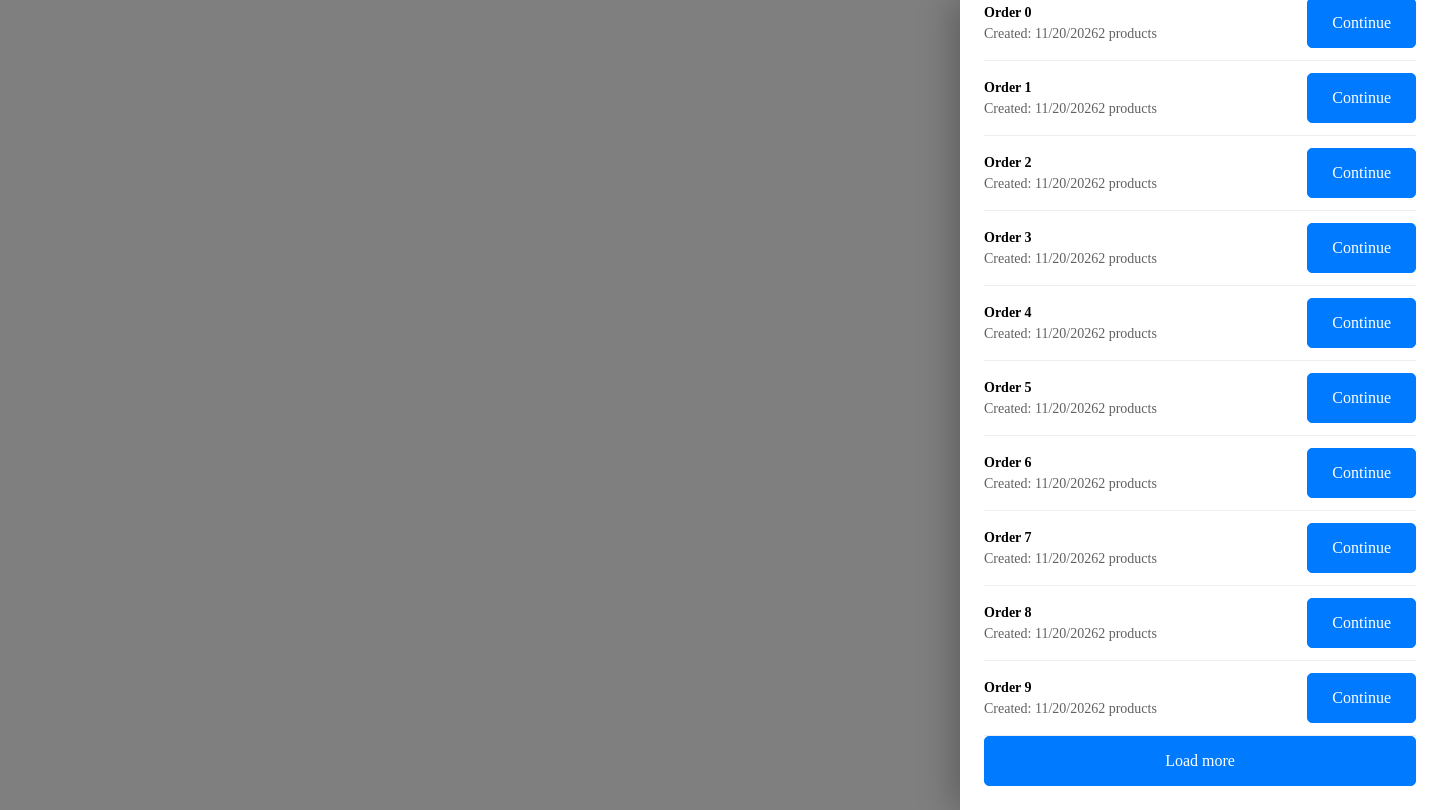
Test: AccountDialog's drafts › loads the next page from where the last ended
This screenshot has width=1440, height=810.
(page scrolled)
Expected: the text "Order 0" is shown, [984,5,1032,20]
Step 1. Click the button "Load more" → (1200,761), box [984,736,1416,786]
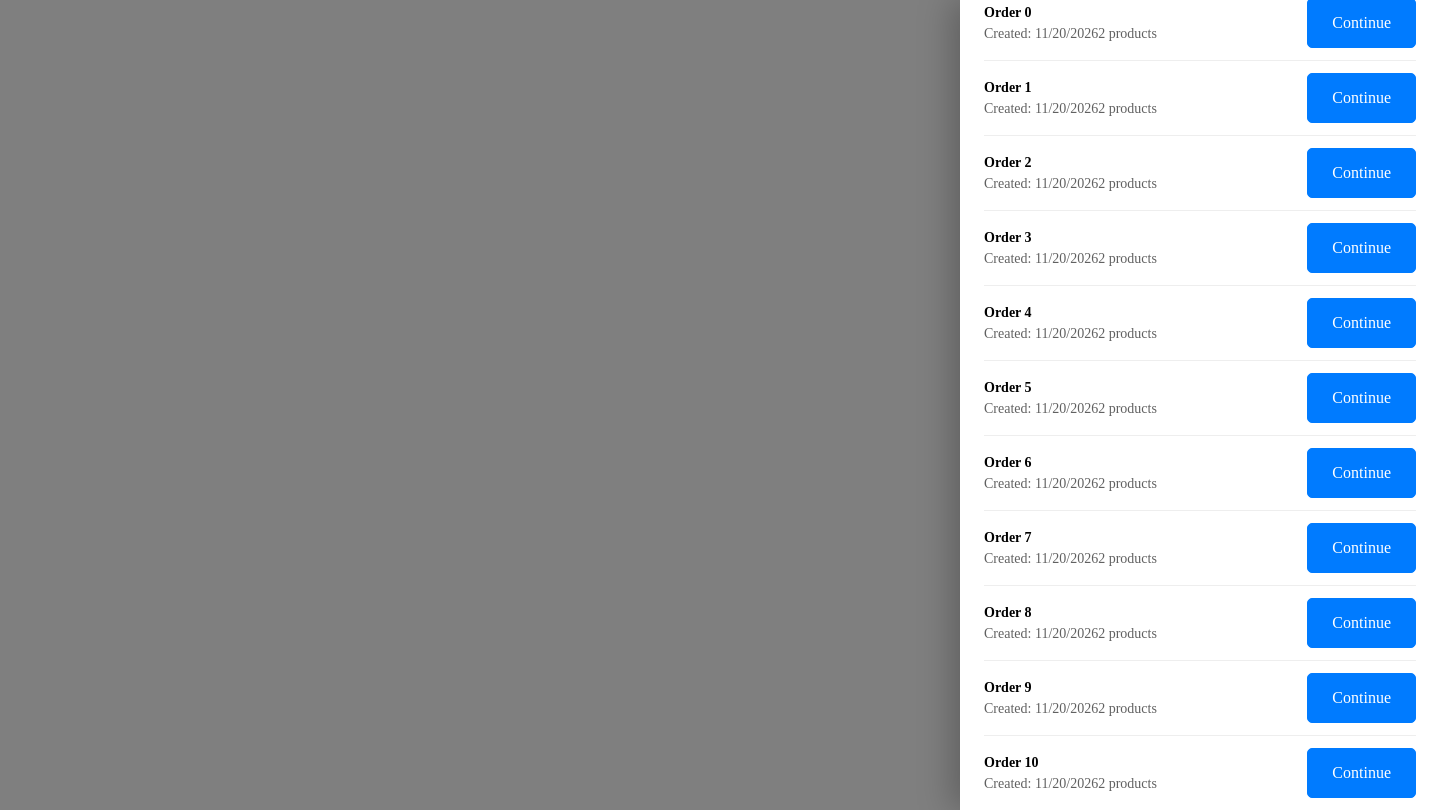
Expected: the text "Order 0" is shown, [984,5,1032,20]
Now the text "Order 10" is shown, box [984,755,1039,770]
